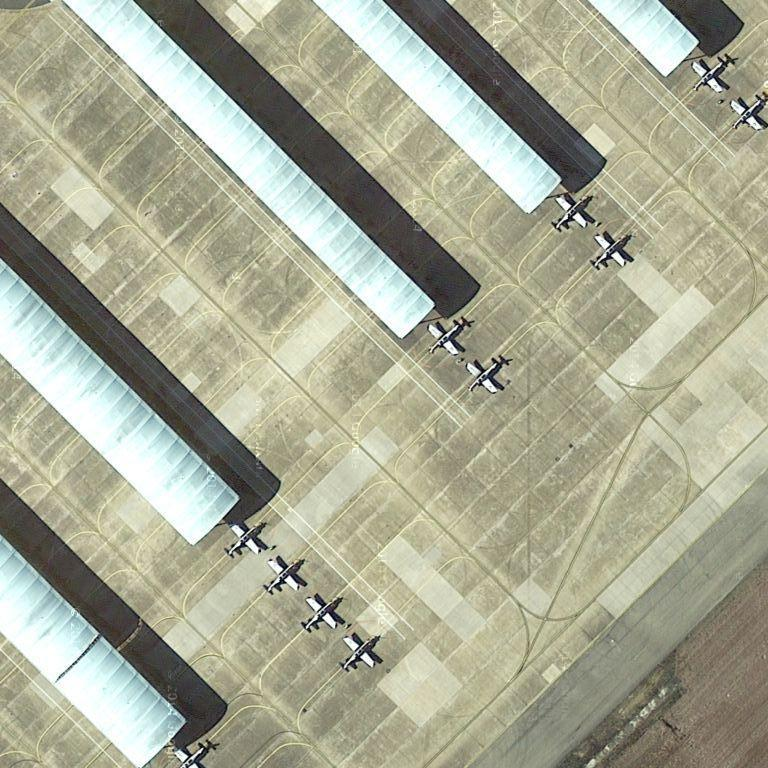plane: (220, 514, 272, 565), (260, 552, 306, 603), (464, 351, 511, 400), (339, 630, 384, 681), (297, 591, 344, 638), (425, 315, 472, 361), (586, 230, 631, 275), (688, 51, 731, 97), (728, 91, 766, 140), (550, 192, 592, 235)
